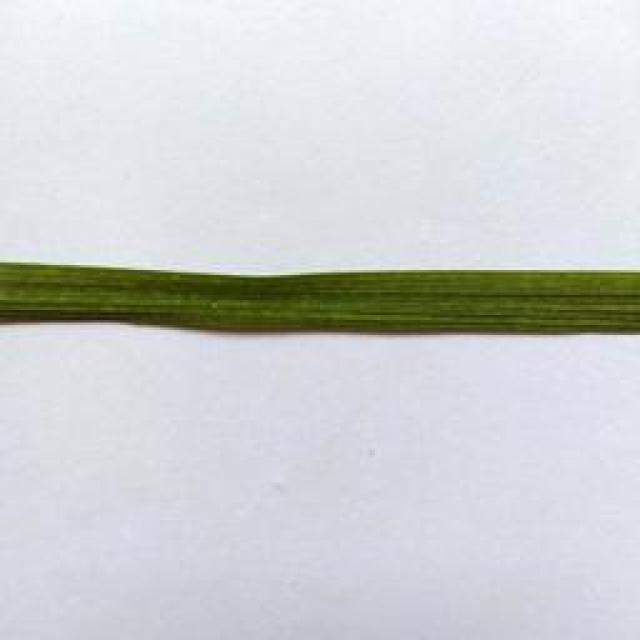Healthy-Plant: (0, 255, 638, 340)
